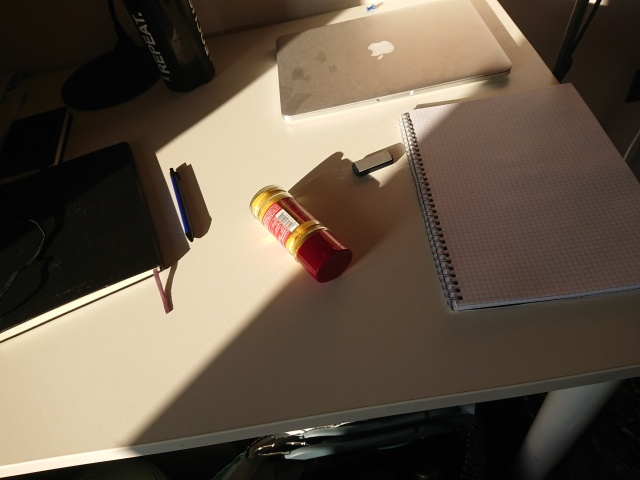Kotanyi Curry Spices Mix 70g: (247, 182, 356, 285)
